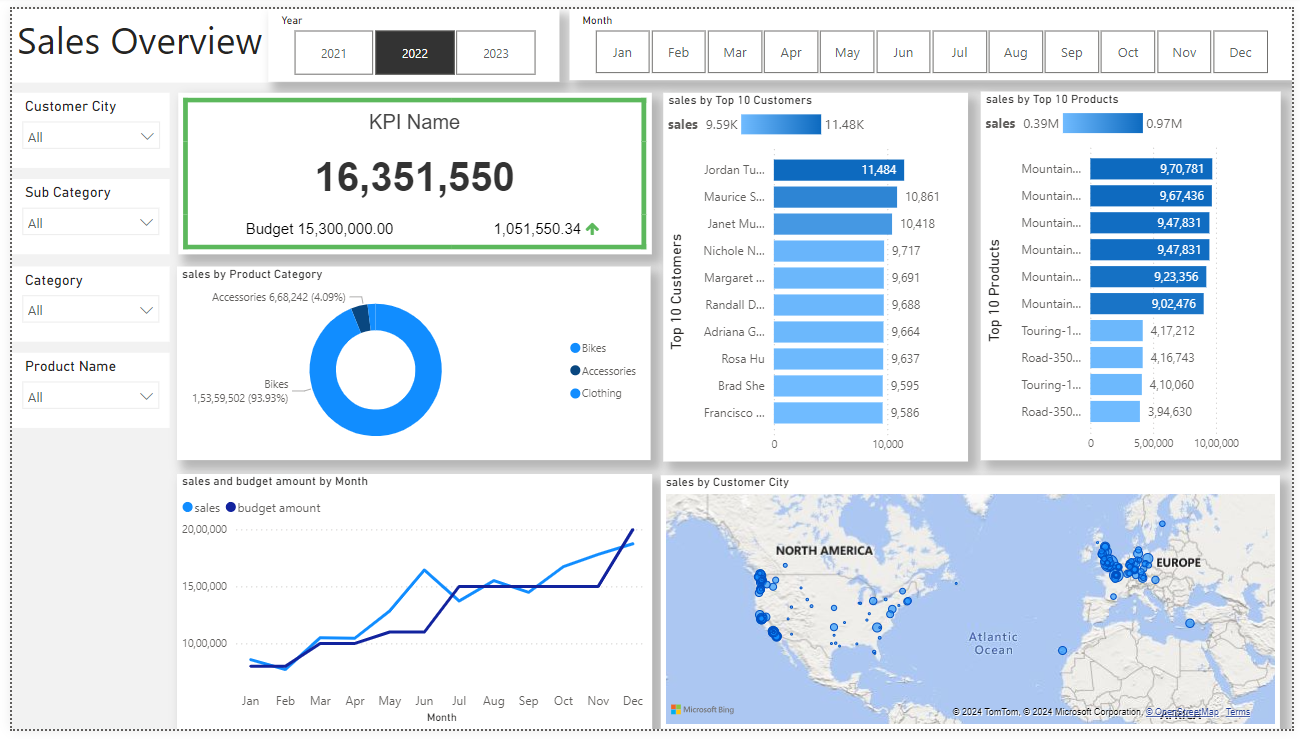

The dashboard page shown, as its layout file describes it:
{"tool":"powerbi","page":{"name":"Page 1","canvas":[1280,720],"ordinal":0},"visuals":[{"type":"textbox","box":[0,0,1280,73.3],"z":0},{"type":"slicer","fields":{"Values":["DIM_Customer.Customer City"]},"box":[0,83.9,157.8,75],"z":1000},{"type":"slicer","fields":{"Values":["DIM_Products.Sub Category"]},"box":[0,170,157.2,75.6],"z":2000},{"type":"slicer","fields":{"Values":["DIM_Products.Product Category"]},"box":[0,257.2,157.2,75.6],"z":3000},{"type":"slicer","fields":{"Values":["DIM_Products.Product Name"]},"box":[0,343.9,157.2,75.6],"z":4000},{"type":"slicer","fields":{"Values":["DIM_Calender.Year"]},"box":[255.7,0,291.4,72.9],"z":5000},{"type":"slicer","fields":{"Values":["DIM_Calender.Monthshort"]},"box":[557.6,0,722,71.2],"z":6000},{"type":"BBED0A4D4D8D44CE93CF2DAFADEE466C","fields":{"actual":["FACT_InternetSales.sales"],"target1":["Budget.budget amount"],"target2":["key measures.sales - budget"]},"box":[166.7,83.3,473.3,161.7],"z":7000},{"type":"donutChart","fields":{"Category":["DIM_Products.Product Category"],"Y":["key measures.sales"]},"box":[165,257.5,473.8,193.8],"z":8000},{"type":"lineChart","fields":{"Y":["key measures.sales","key measures.budget amount"],"Category":["DIM_Calender.Monthshort"]},"box":[165,465,475,255],"z":9000},{"type":"barChart","fields":{"Y":["key measures.sales"],"Category":["DIM_Customer.Full Name"]},"box":[651.1,83.3,304.4,368.9],"z":10000},{"type":"barChart","fields":{"Y":["key measures.sales"],"Category":["DIM_Products.Product Name"]},"box":[968.7,82.1,300,368.7],"z":11000},{"type":"map","fields":{"Category":["DIM_Customer.Customer City"],"Size":["key measures.sales"]},"box":[649.3,465.7,619.4,253.7],"z":12000}]}

Visuals, with their boxes in screenshot pixels (x1, y1, x2, y2), scaled from the page's 1280x720 canvas onto the 1300x739 screenshot:
textbox: {"left": 0, "top": 0, "right": 1299, "bottom": 75}
slicer - DIM_Customer.Customer City: {"left": 0, "top": 86, "right": 160, "bottom": 163}
slicer - DIM_Products.Sub Category: {"left": 0, "top": 174, "right": 160, "bottom": 252}
slicer - DIM_Products.Product Category: {"left": 0, "top": 264, "right": 160, "bottom": 342}
slicer - DIM_Products.Product Name: {"left": 0, "top": 353, "right": 160, "bottom": 431}
slicer - DIM_Calender.Year: {"left": 260, "top": 0, "right": 556, "bottom": 75}
slicer - DIM_Calender.Monthshort: {"left": 566, "top": 0, "right": 1299, "bottom": 73}
BBED0A4D4D8D44CE93CF2DAFADEE466C - FACT_InternetSales.sales x Budget.budget amount: {"left": 169, "top": 85, "right": 650, "bottom": 251}
donutChart - DIM_Products.Product Category x key measures.sales: {"left": 168, "top": 264, "right": 649, "bottom": 463}
lineChart - key measures.sales x key measures.budget amount: {"left": 168, "top": 477, "right": 650, "bottom": 738}
barChart - key measures.sales x DIM_Customer.Full Name: {"left": 661, "top": 85, "right": 970, "bottom": 464}
barChart - key measures.sales x DIM_Products.Product Name: {"left": 984, "top": 84, "right": 1289, "bottom": 463}
map - DIM_Customer.Customer City x key measures.sales: {"left": 659, "top": 478, "right": 1289, "bottom": 738}
